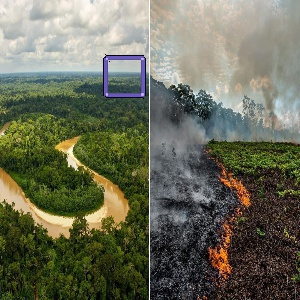square: (102, 54, 147, 99)
